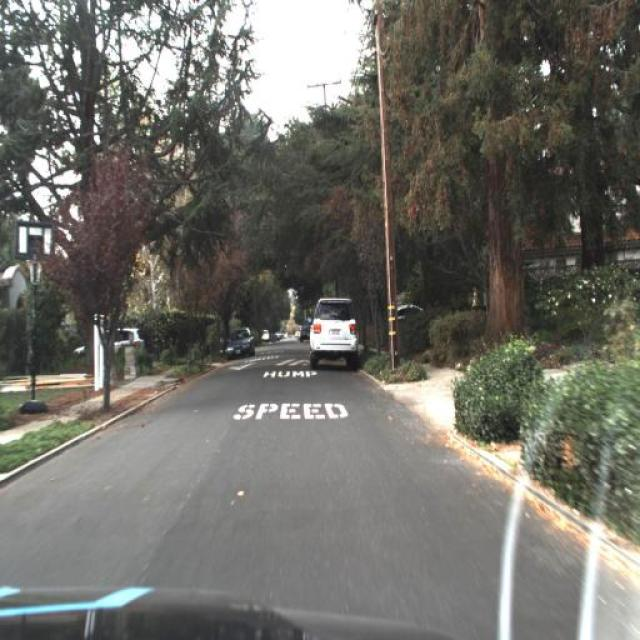car: (306, 294, 360, 384), (382, 302, 426, 332), (224, 328, 258, 360)
